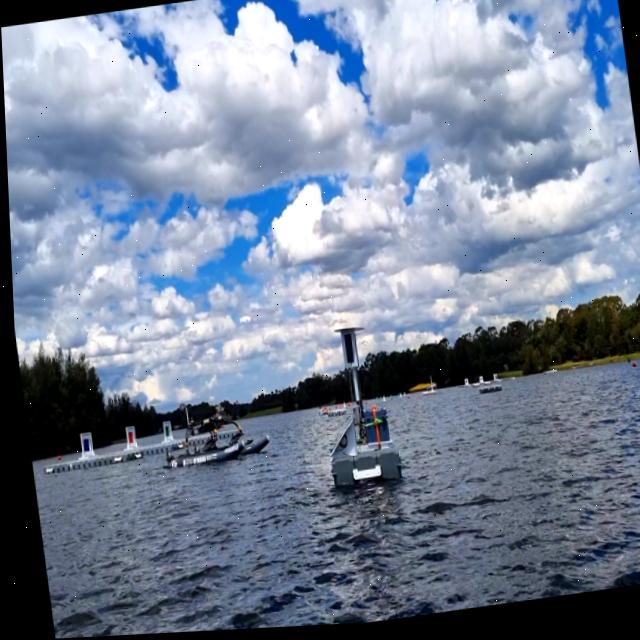led: (338, 334, 353, 370)
